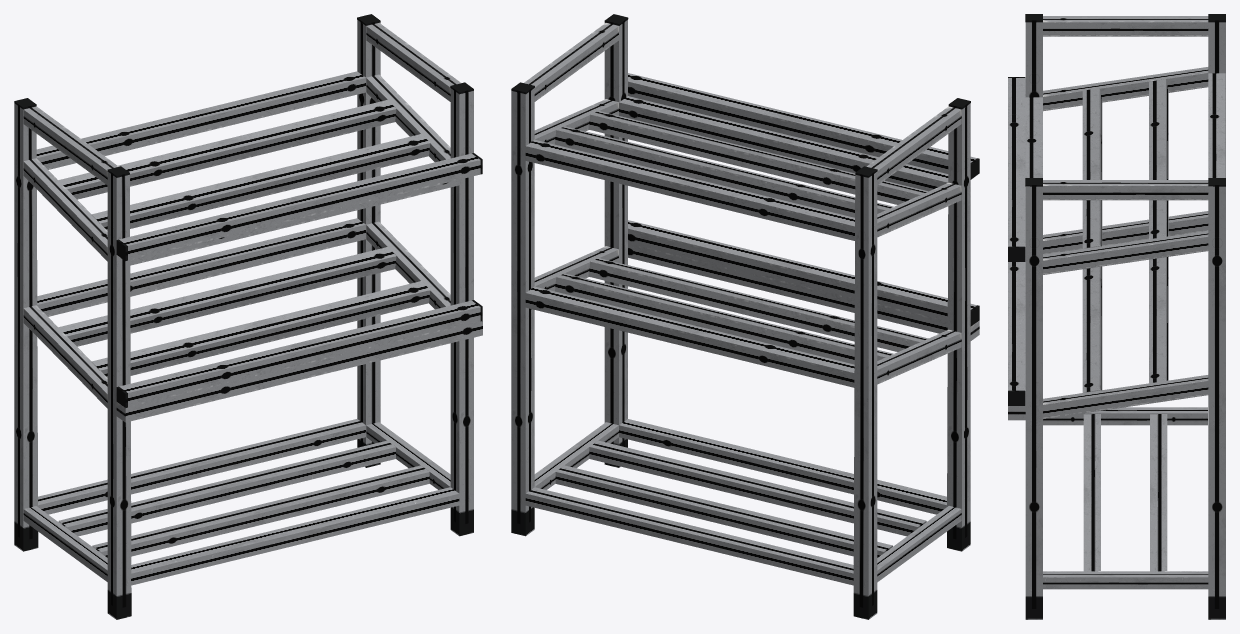
The model's file is LS_TieJiaZi_01.FBX.
The picture shows the model from 3 angles, left to right: view 1: azimuth 30°, elevation 25°; view 2: azimuth 150°, elevation 25°; view 3: azimuth 270°, elevation 25°; orthographic projection. The views are drawn at different scales.
Parts seen in each view (by area): view 1: YF_Model_LS_TieJiaZi_01; view 2: YF_Model_LS_TieJiaZi_01; view 3: YF_Model_LS_TieJiaZi_01.
Boxes of the visible parts, x1,y1,x2,y2 form: YF_Model_LS_TieJiaZi_01: [14, 14, 482, 619]; YF_Model_LS_TieJiaZi_01: [511, 14, 979, 619]; YF_Model_LS_TieJiaZi_01: [1008, 14, 1225, 619].
Size of the model in its own units: 115 by 136 by 61.85.
Materials: 1 (1 with a texture image).
